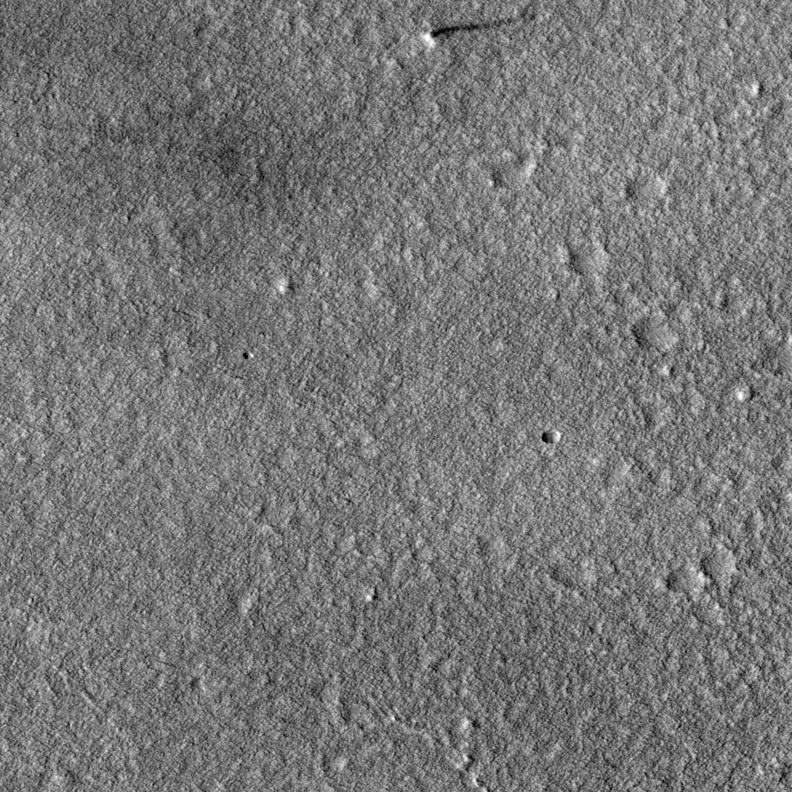dust_devil: (417, 11, 538, 51)
